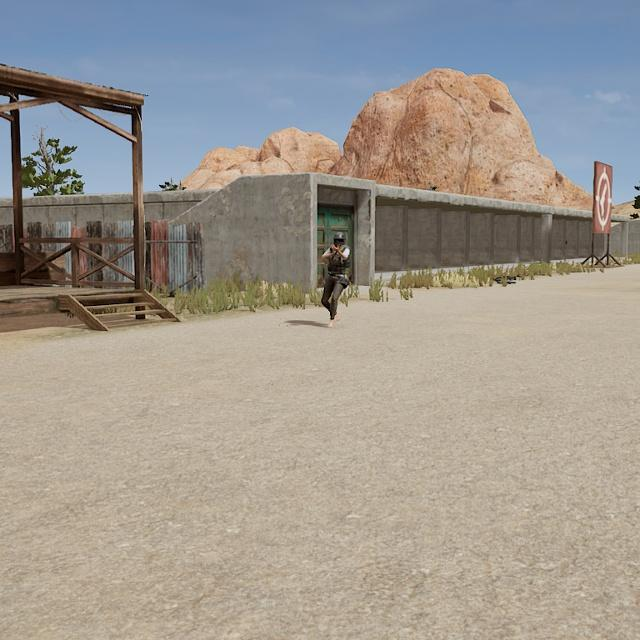head: (332, 230, 347, 250)
people: (317, 230, 352, 328)
